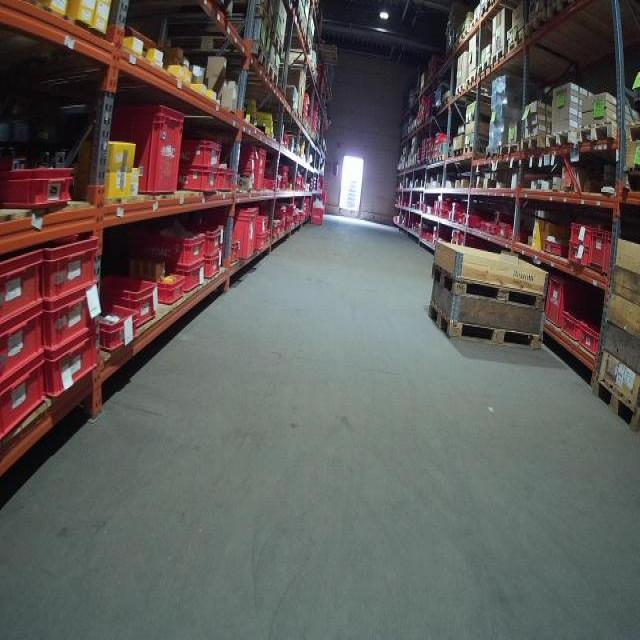pallet: (430, 264, 545, 312), (427, 307, 544, 352), (592, 381, 640, 433), (579, 119, 616, 144), (546, 127, 578, 148), (527, 11, 546, 36), (520, 134, 544, 152), (491, 46, 508, 66), (499, 141, 519, 156), (625, 123, 640, 142), (477, 58, 490, 77), (509, 37, 523, 53), (455, 82, 466, 96), (481, 0, 490, 16), (466, 73, 476, 86), (464, 145, 473, 155)
small_load_carrier: (81, 102, 189, 197), (43, 231, 102, 311), (46, 327, 105, 402), (0, 160, 80, 213), (2, 354, 50, 441), (43, 290, 96, 364), (1, 246, 45, 333), (130, 225, 206, 275), (0, 312, 46, 392), (103, 272, 163, 328), (541, 270, 582, 328), (94, 302, 141, 352), (177, 134, 227, 167), (233, 206, 262, 262), (587, 223, 614, 280), (156, 265, 189, 310), (544, 237, 592, 266), (194, 222, 227, 260), (246, 148, 269, 197), (181, 172, 220, 196), (578, 322, 601, 355), (185, 263, 207, 293), (569, 219, 591, 248), (201, 254, 223, 283), (564, 312, 582, 342), (235, 140, 257, 162), (221, 166, 237, 194), (256, 233, 276, 254), (497, 219, 514, 239), (262, 181, 280, 197), (235, 162, 254, 177), (254, 214, 268, 232)
